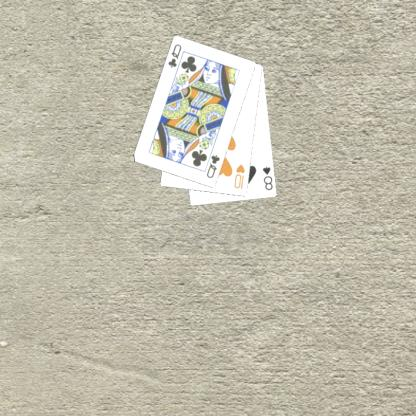10H: (232, 162, 246, 190)
8S: (260, 164, 274, 192)
QC: (204, 152, 221, 180), (166, 42, 183, 69)
